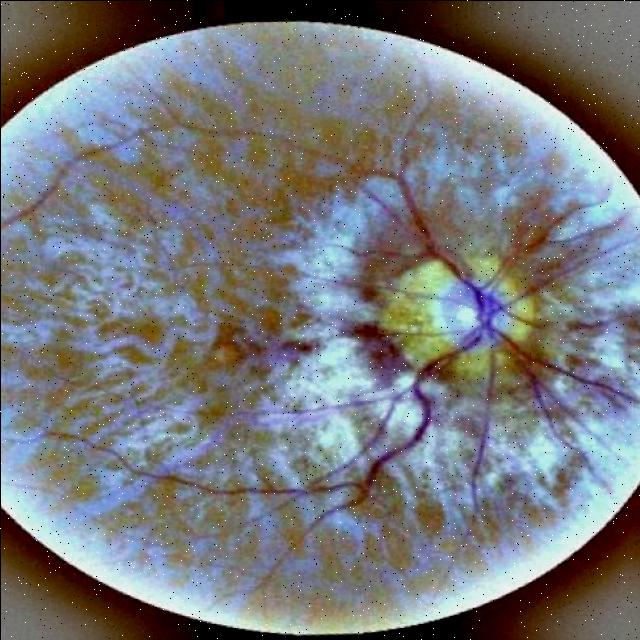Macula: (206, 335, 307, 368)
Nerves: (217, 363, 434, 565), (293, 98, 458, 271), (473, 348, 496, 512)
Optic Disk: (378, 257, 532, 378)
